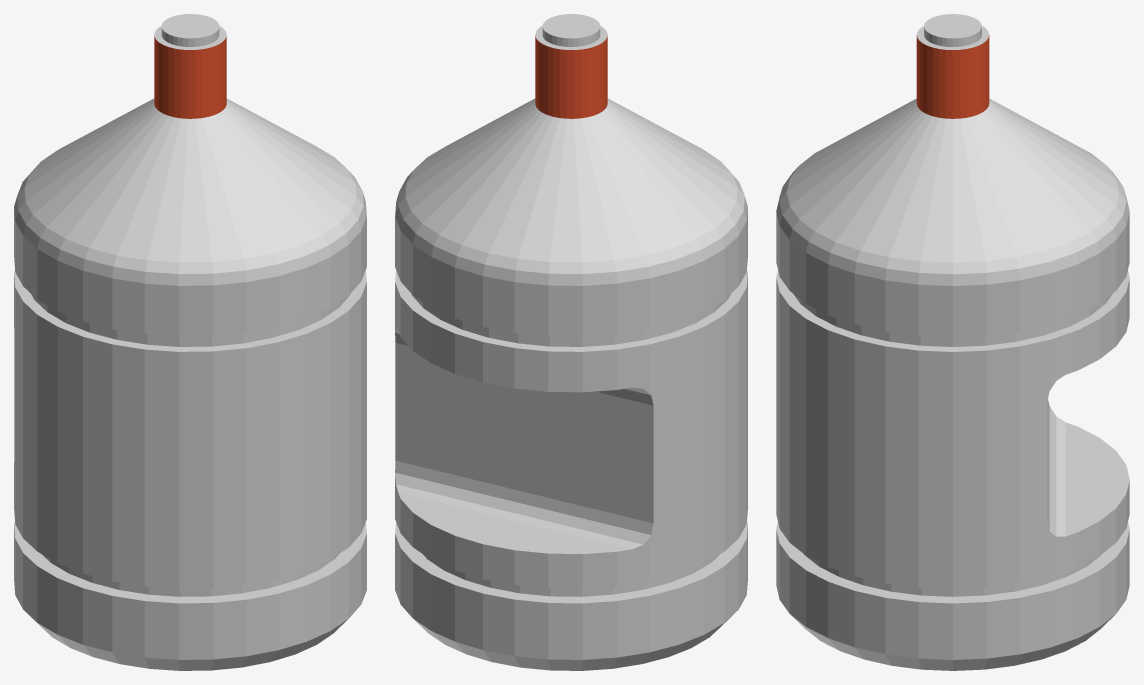
The model's file is water_jar.fbx.
The picture shows the model from 3 angles, left to right: view 1: azimuth 30°, elevation 25°; view 2: azimuth 150°, elevation 25°; view 3: azimuth 270°, elevation 25°; orthographic projection.
Visible parts, largest first — view 1: Cylinder.001; view 2: Cylinder.001; view 3: Cylinder.001.
Part boxes in pixels (x1,y1,x2,y2): Cylinder.001: [14, 14, 366, 670]; Cylinder.001: [395, 14, 747, 670]; Cylinder.001: [776, 14, 1129, 670].
Bounding box in the file's own units: 356 × 641 × 356.
